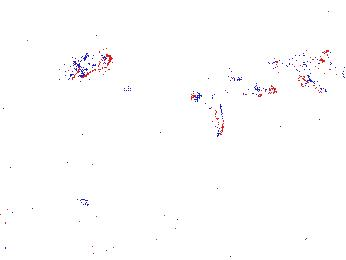glassfish: (201, 68, 226, 143)
redtail glassfish: (267, 53, 346, 85), (70, 51, 112, 80), (230, 72, 279, 96)
